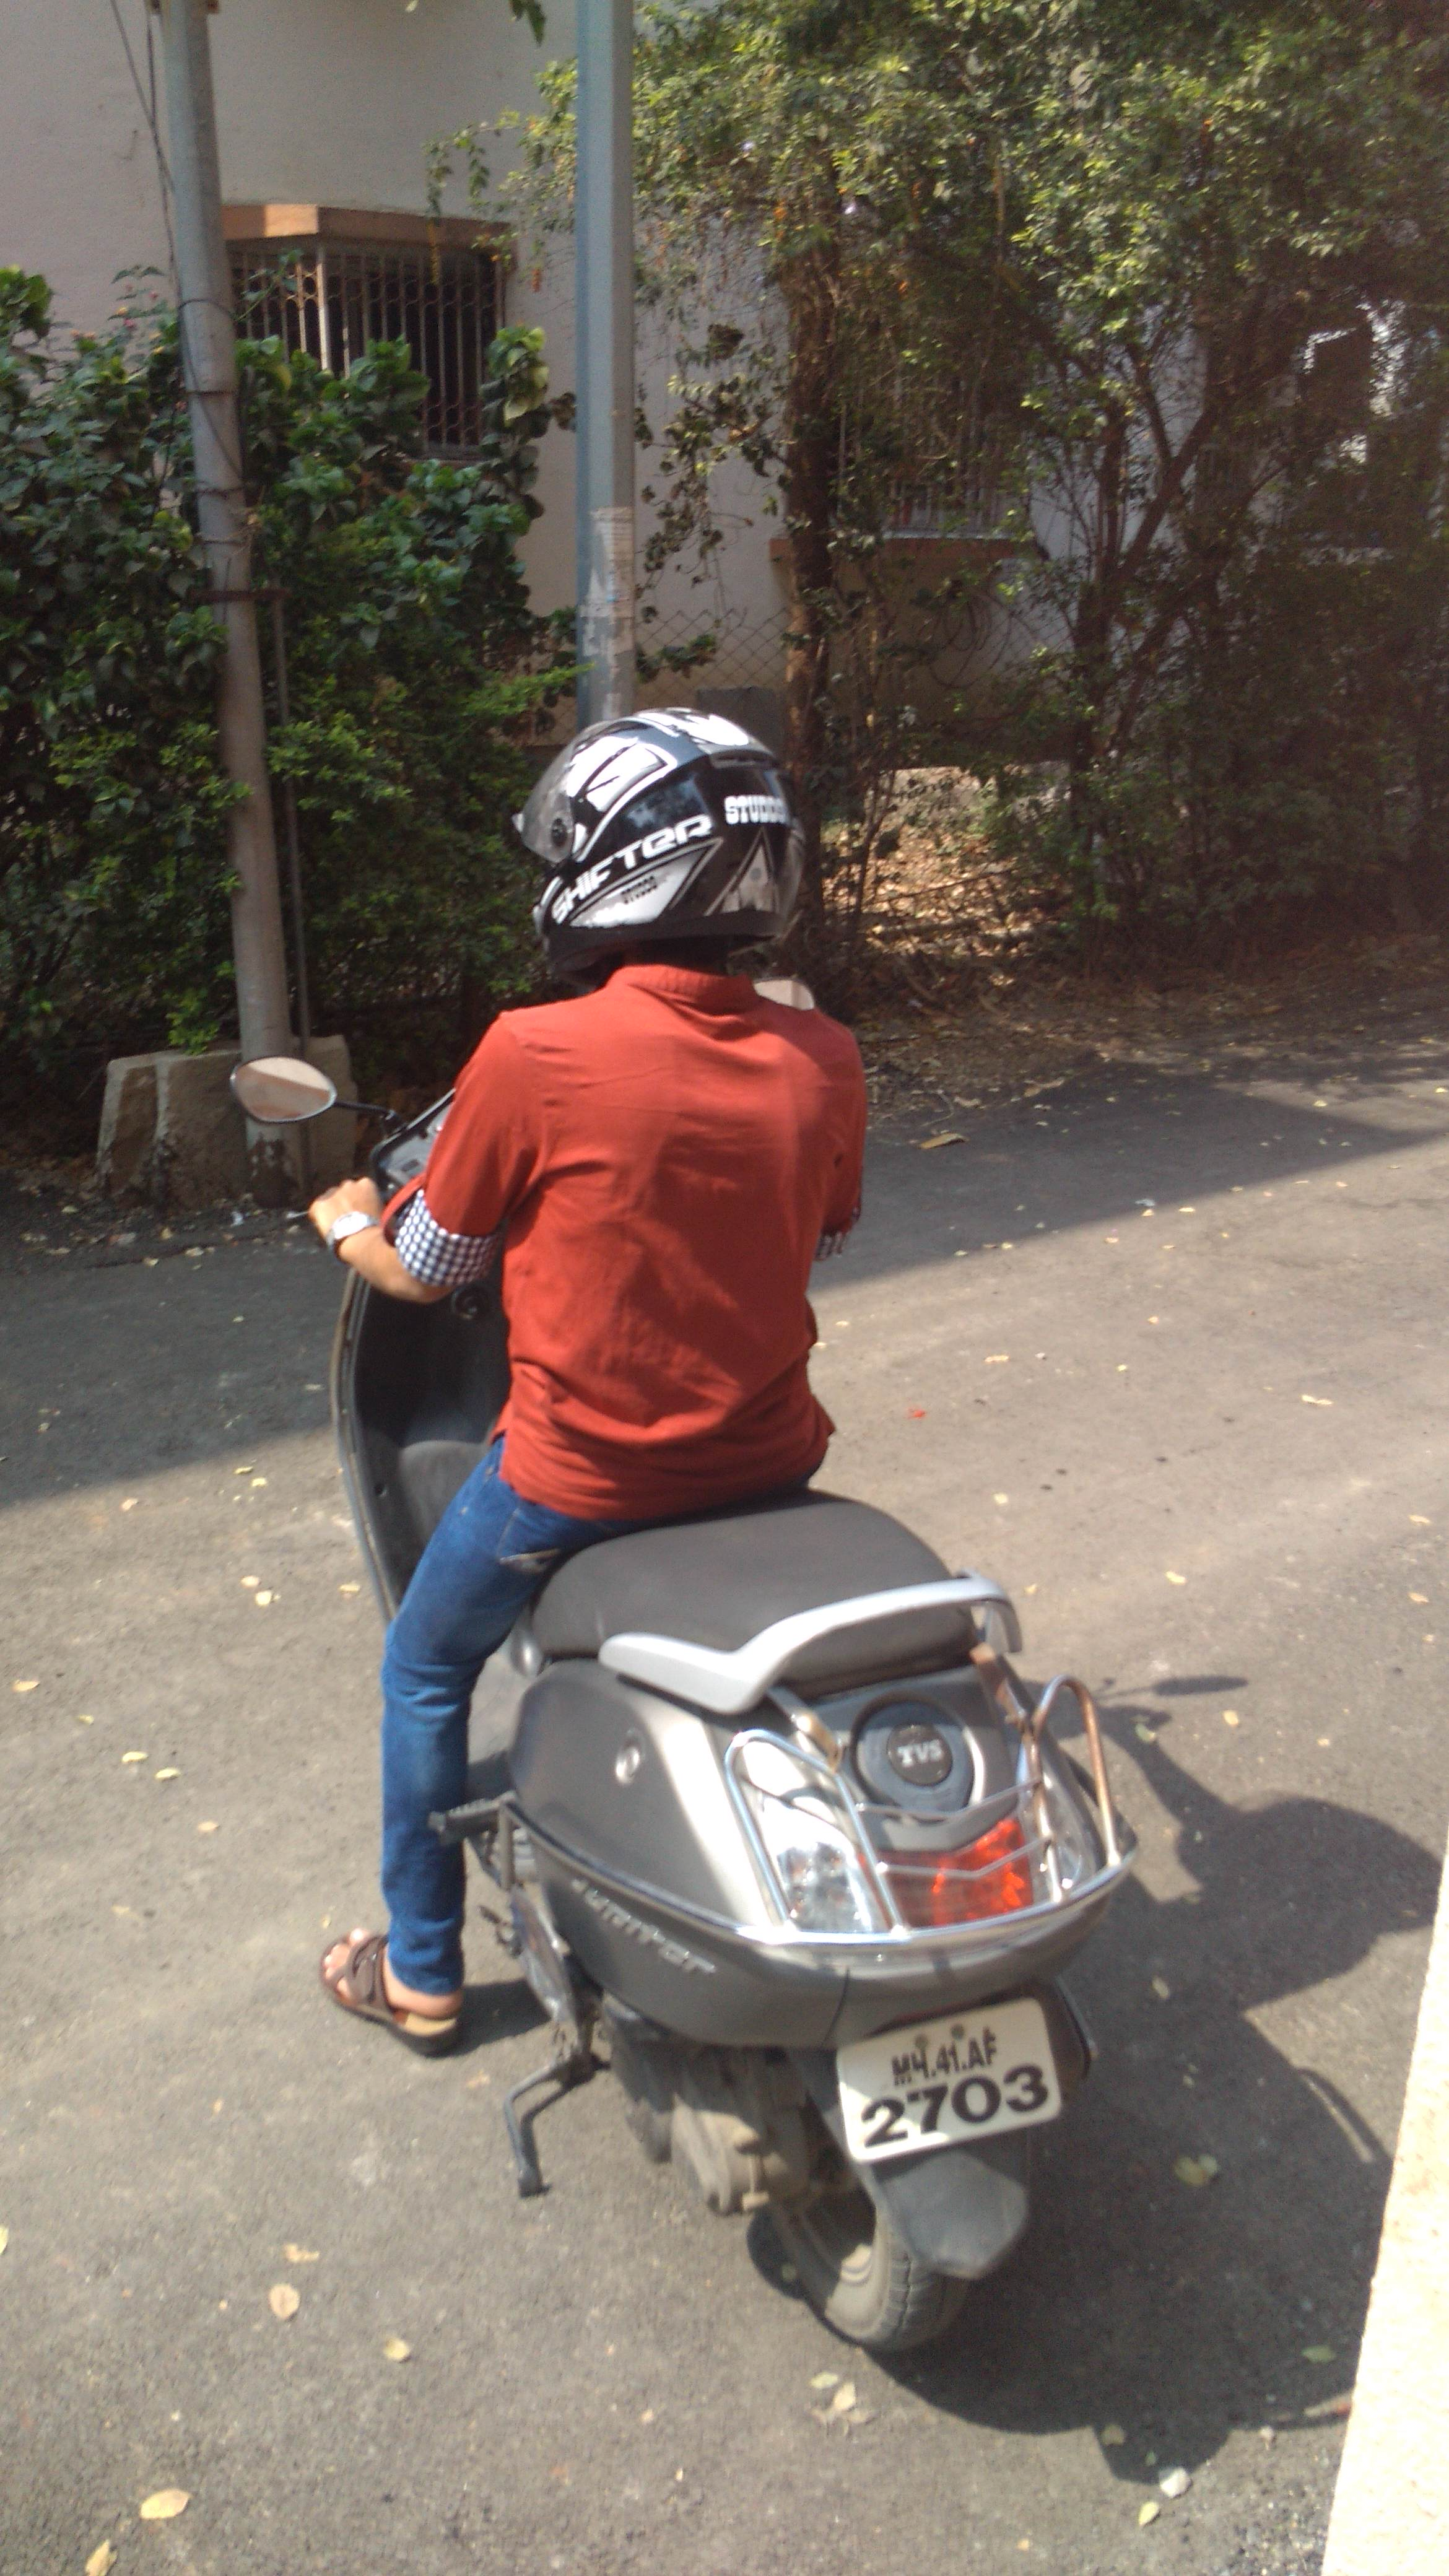helmet: (241, 685, 939, 1718)
